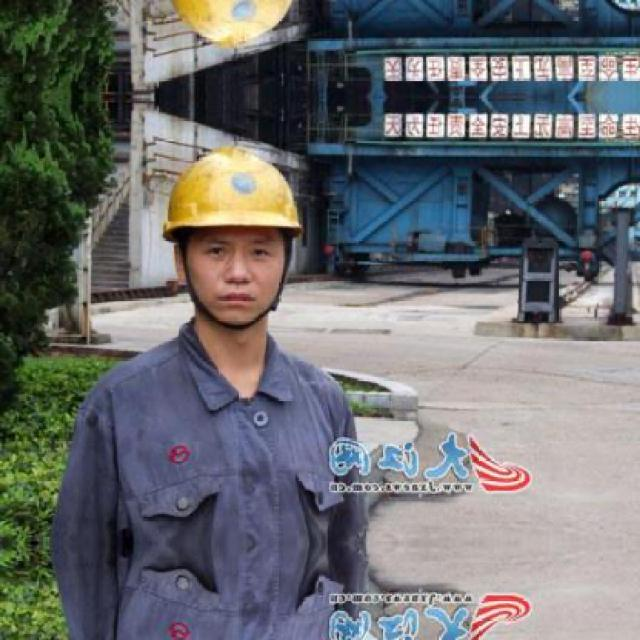helmet: (138, 135, 322, 337), (139, 0, 323, 57)
